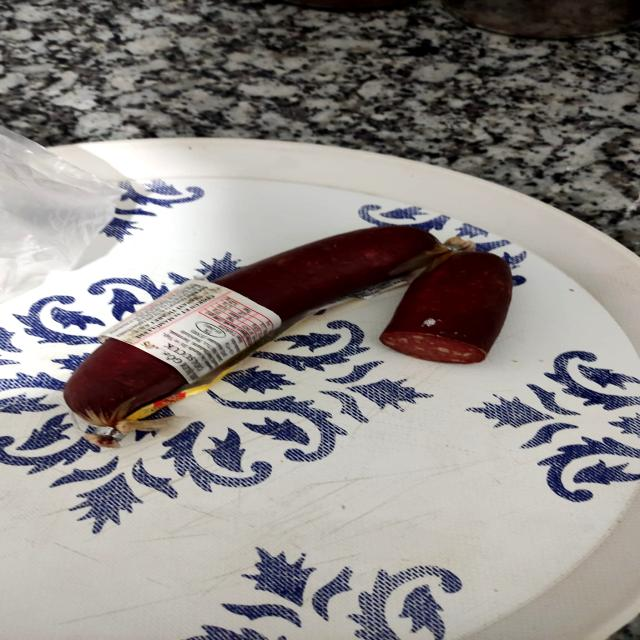sausage: (52, 226, 440, 448), (366, 228, 524, 370)
